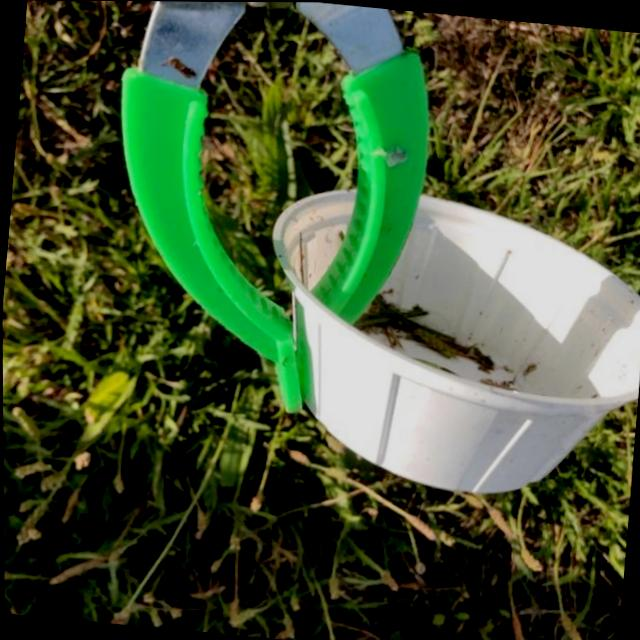Paper: (246, 175, 640, 510)
